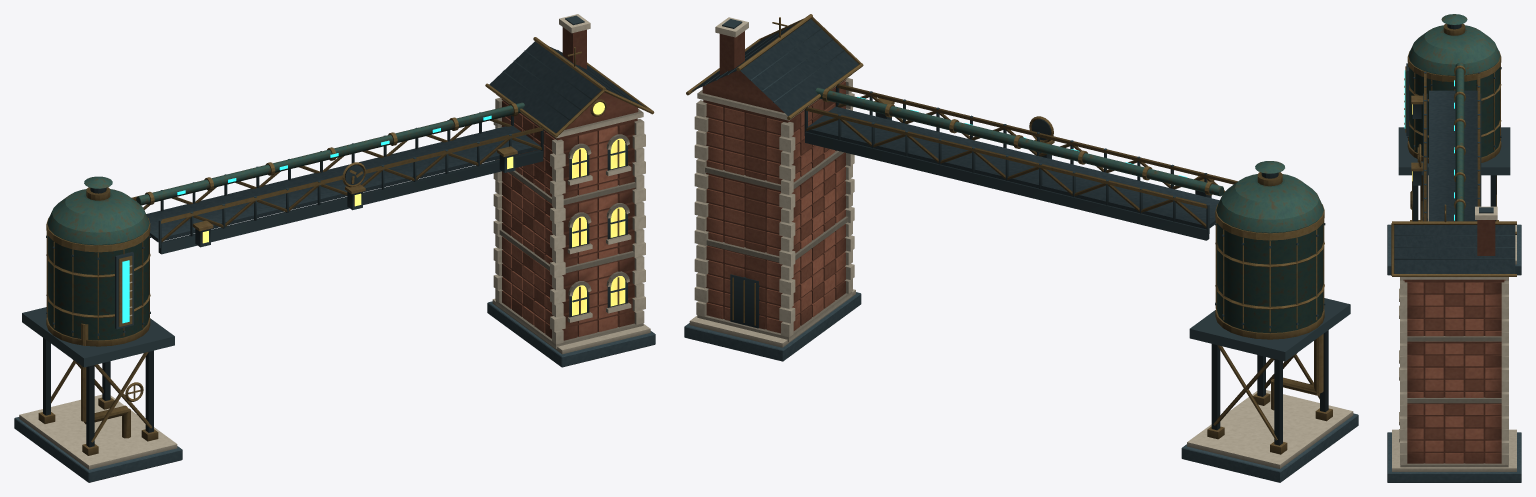
File: flowsmith-waterworks-landmark.glb
3 renders of one model, left to right at view 1: azimuth 30°, elevation 25°; view 2: azimuth 150°, elevation 25°; view 3: azimuth 270°, elevation 25°, orthographic. The views are drawn at different scales.
Visible parts, largest first — view 1: stone_limestone, copper_aged, iron_graphite, brass_trim, roof_slate, tower_brick, brick_dark, brick_warm, foundation_basalt, windows_power, water_core; view 2: copper_aged, stone_limestone, roof_slate, brass_trim, iron_graphite, tower_brick, brick_warm, brick_dark, foundation_basalt; view 3: roof_slate, tower_brick, copper_aged, stone_limestone, brick_dark, brick_warm, brass_trim, iron_graphite, foundation_basalt.
Boxes of the visible parts, box(x1,y1,x2,y2) form: stone_limestone: box(19, 14, 650, 469); copper_aged: box(47, 102, 524, 340); iron_graphite: box(22, 15, 631, 447); brass_trim: box(38, 37, 654, 455); roof_slate: box(146, 41, 642, 242); tower_brick: box(501, 27, 638, 336); brick_dark: box(502, 101, 634, 340); brick_warm: box(502, 113, 617, 331); foundation_basalt: box(14, 301, 655, 482); windows_power: box(202, 102, 625, 315); water_core: box(122, 115, 491, 323); copper_aged: box(815, 87, 1323, 333); stone_limestone: box(689, 17, 1353, 468); roof_slate: box(691, 19, 1219, 229); brass_trim: box(686, 14, 1332, 454); iron_graphite: box(704, 19, 1350, 445); tower_brick: box(702, 31, 846, 330); brick_warm: box(706, 81, 845, 333); brick_dark: box(745, 89, 845, 329); foundation_basalt: box(684, 292, 1358, 482); roof_slate: box(1394, 90, 1515, 273); tower_brick: box(1404, 220, 1504, 463); copper_aged: box(1408, 14, 1500, 221); stone_limestone: box(1392, 78, 1516, 471); brick_dark: box(1403, 279, 1501, 463); brick_warm: box(1407, 279, 1505, 463); brass_trim: box(1391, 24, 1516, 276); iron_graphite: box(1394, 24, 1515, 259); foundation_basalt: box(1387, 224, 1521, 482).
Size of the model in its own units: 0.6498 by 0.3182 by 0.148.
Materials: 11 (8 with a texture image).
